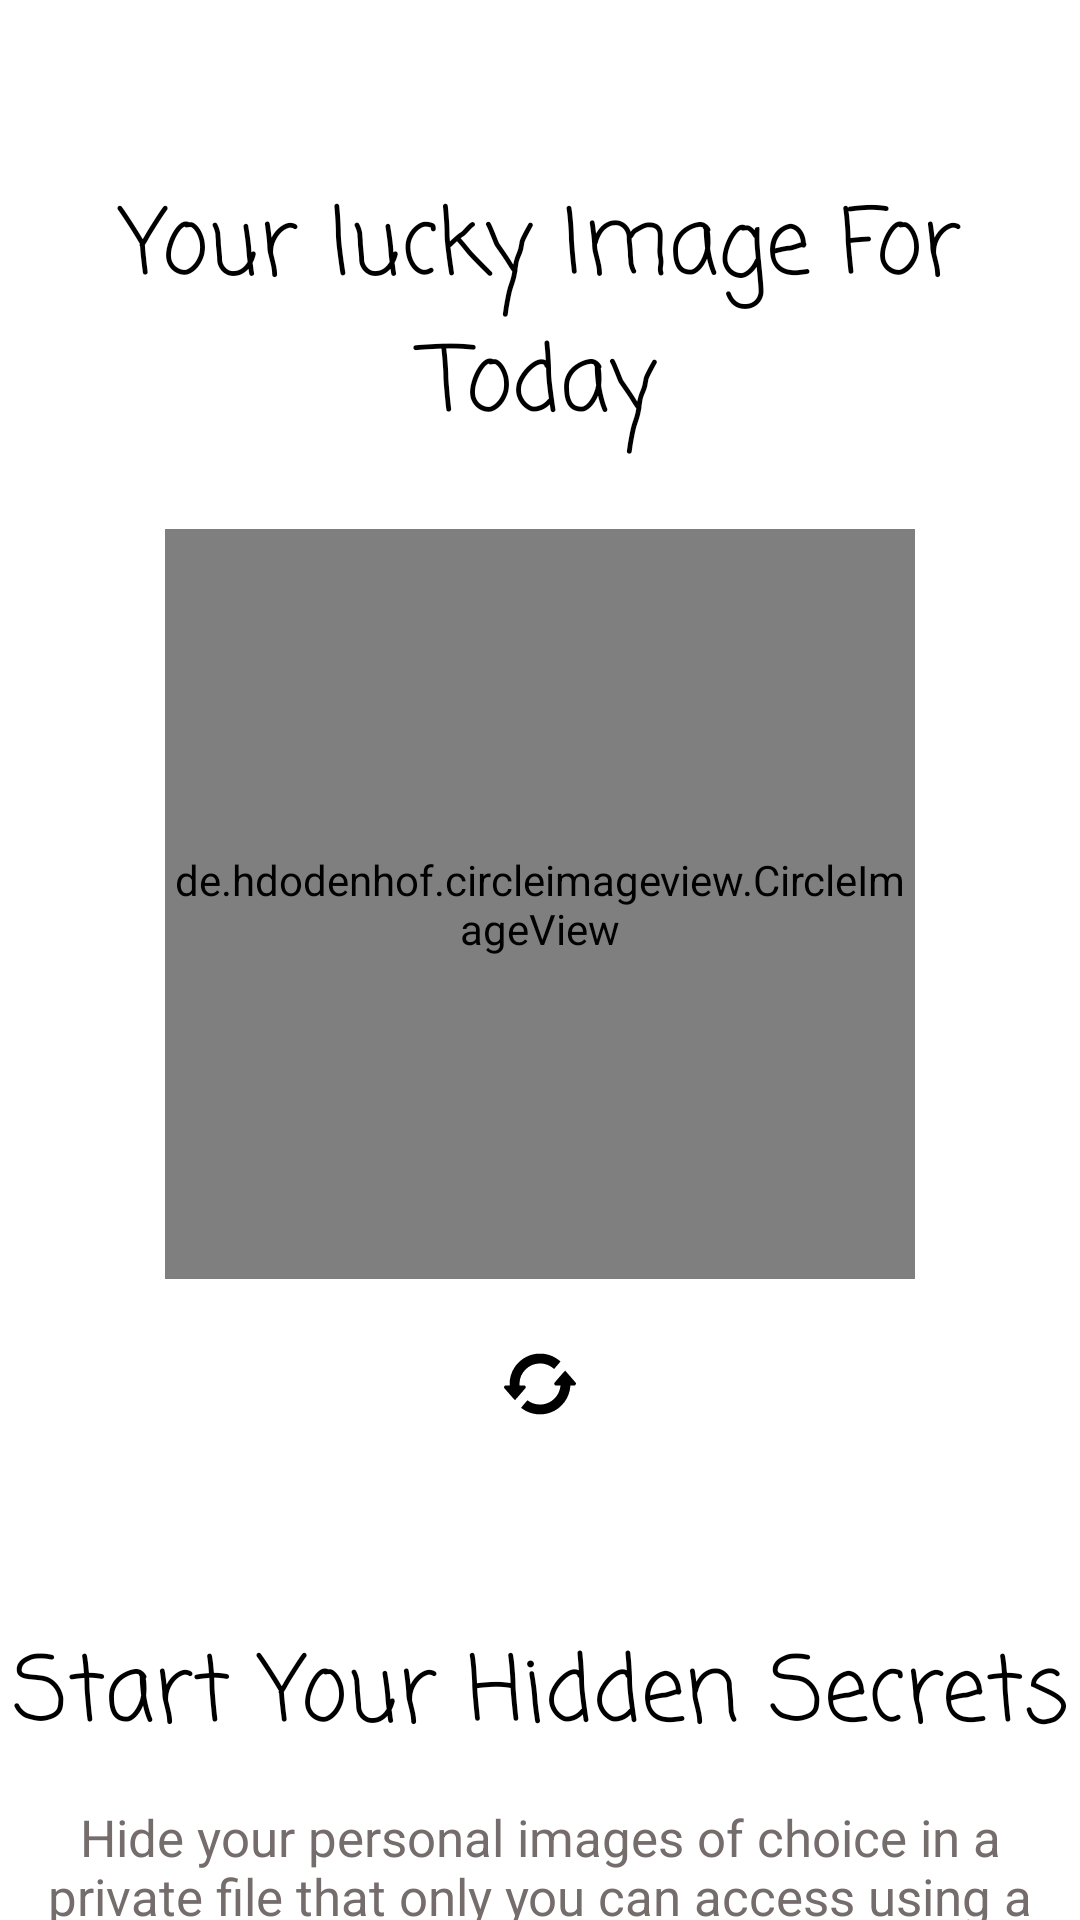

Where to tap for icons on this 1080px×1920px app screen, as (x,y):
refresh: (540,1384)
